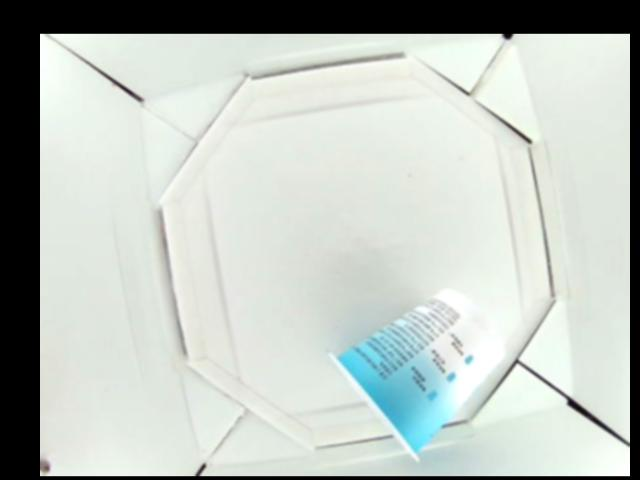Cup: (330, 285, 503, 458)
